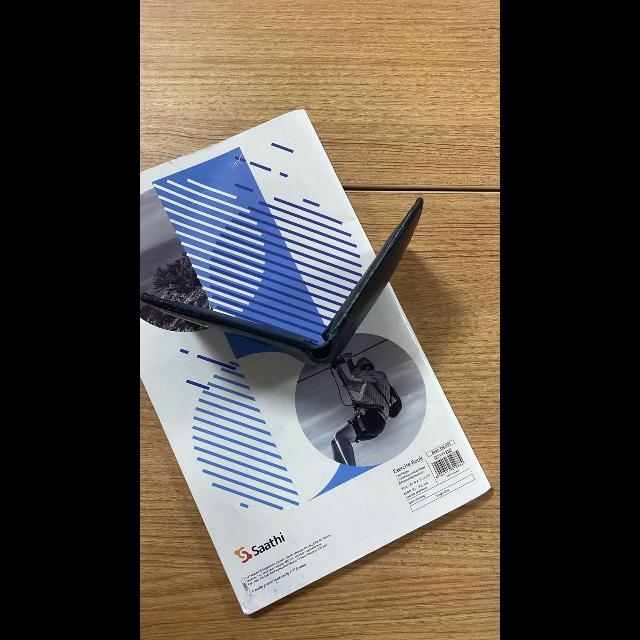wallet: (142, 195, 436, 382)
